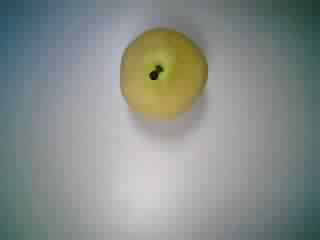pear: (108, 22, 213, 125)
